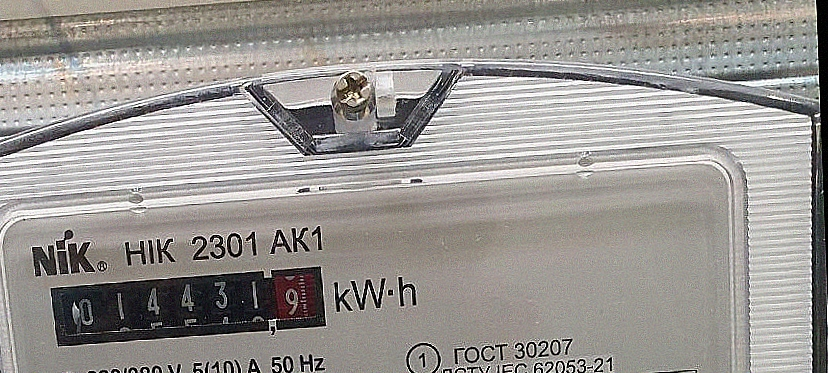0: (75, 293, 96, 327)
1: (111, 287, 130, 321), (248, 277, 262, 309)
3: (211, 278, 231, 311)
4: (142, 283, 164, 316), (177, 279, 196, 313)
9: (282, 284, 300, 315)
screen: (41, 257, 339, 354)
